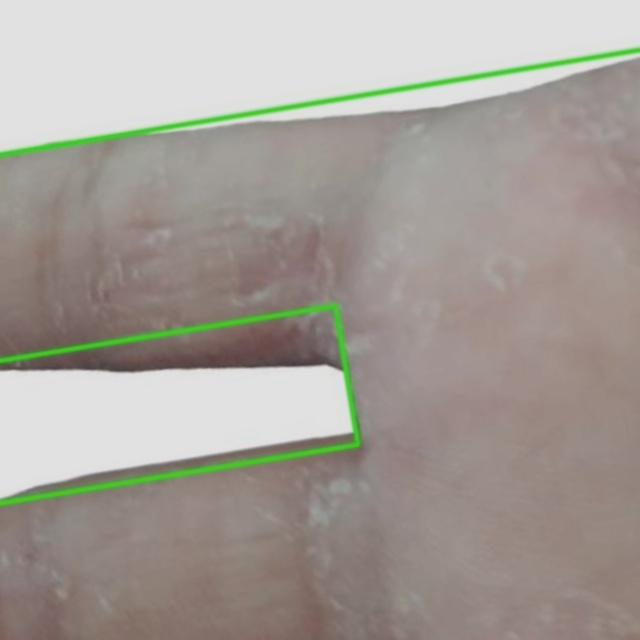Scabies: (0, 49, 639, 639), (0, 305, 357, 503)
